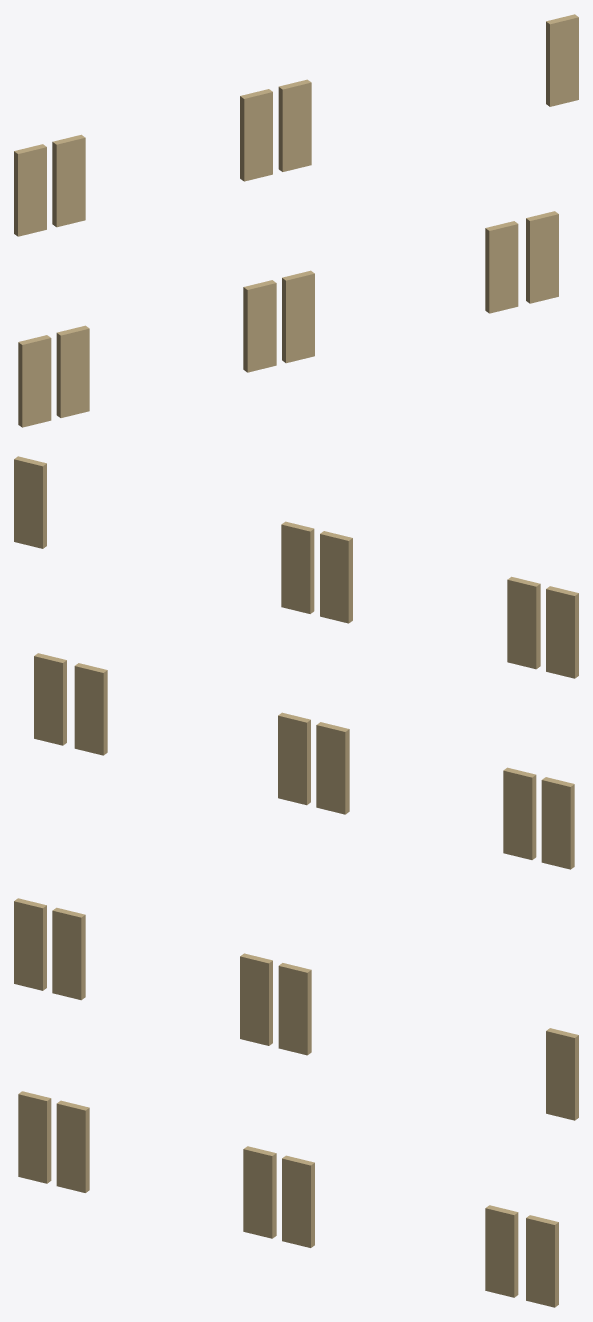
File: doors.obj
3 views of the same model, one above another, from view 1: azimuth 30°, elevation 25°; view 2: azimuth 150°, elevation 25°; view 3: azimuth 330°, elevation 25° (orthographic).
Visible parts, largest first — view 1: door; view 2: door; view 3: door.
Part boxes in pixels (<box>): door: <box>14,14,578,427</box>; door: <box>14,456,578,869</box>; door: <box>14,898,578,1307</box>.
Size of the model in its own units: 29.99 by 14.03 by 0.3798.
